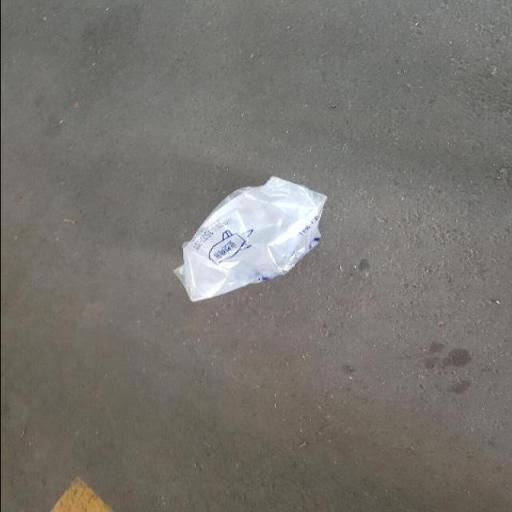plastic-bag: (170, 177, 330, 308)
